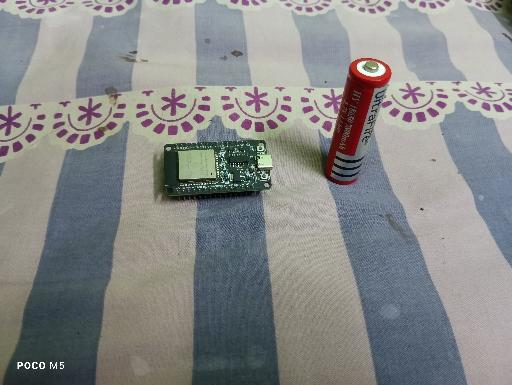Battery: (324, 58, 392, 186)
Esp32: (163, 139, 274, 202)
